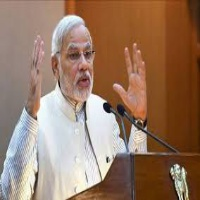ring: (135, 49, 142, 79)
